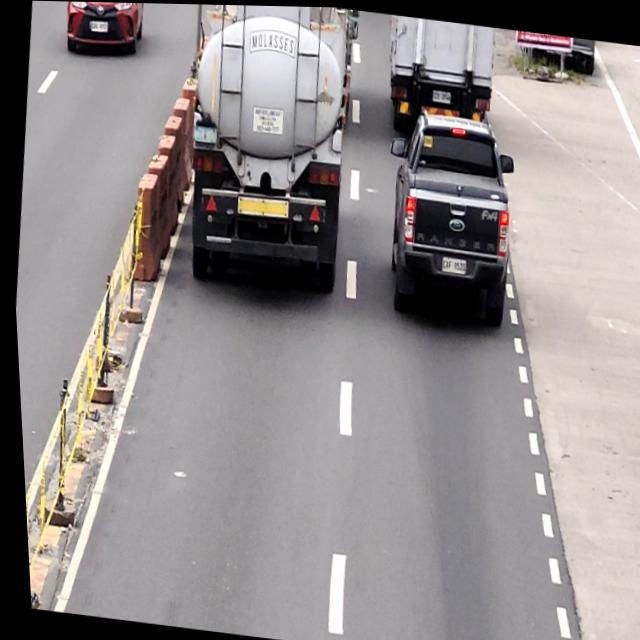Car: (370, 105, 525, 330)
License-Plate: (438, 254, 464, 273), (191, 123, 216, 141), (429, 86, 451, 102)
Truck: (169, 3, 371, 294), (377, 12, 500, 148)
